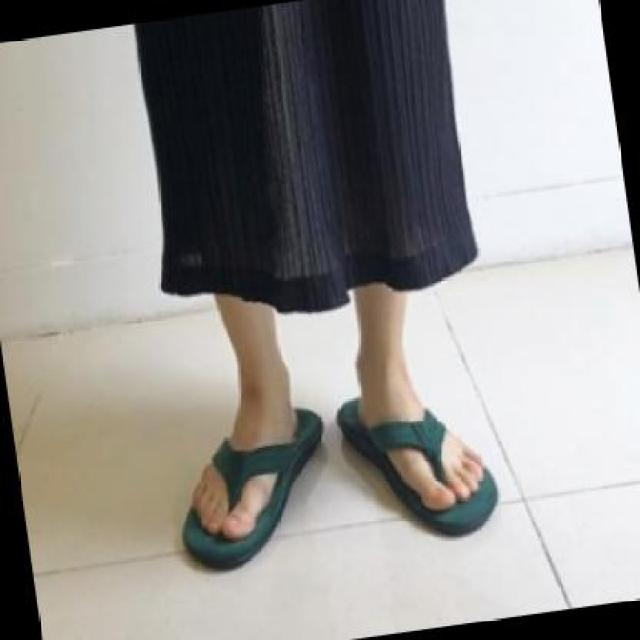Sandals: (154, 378, 351, 632), (321, 345, 505, 589)
